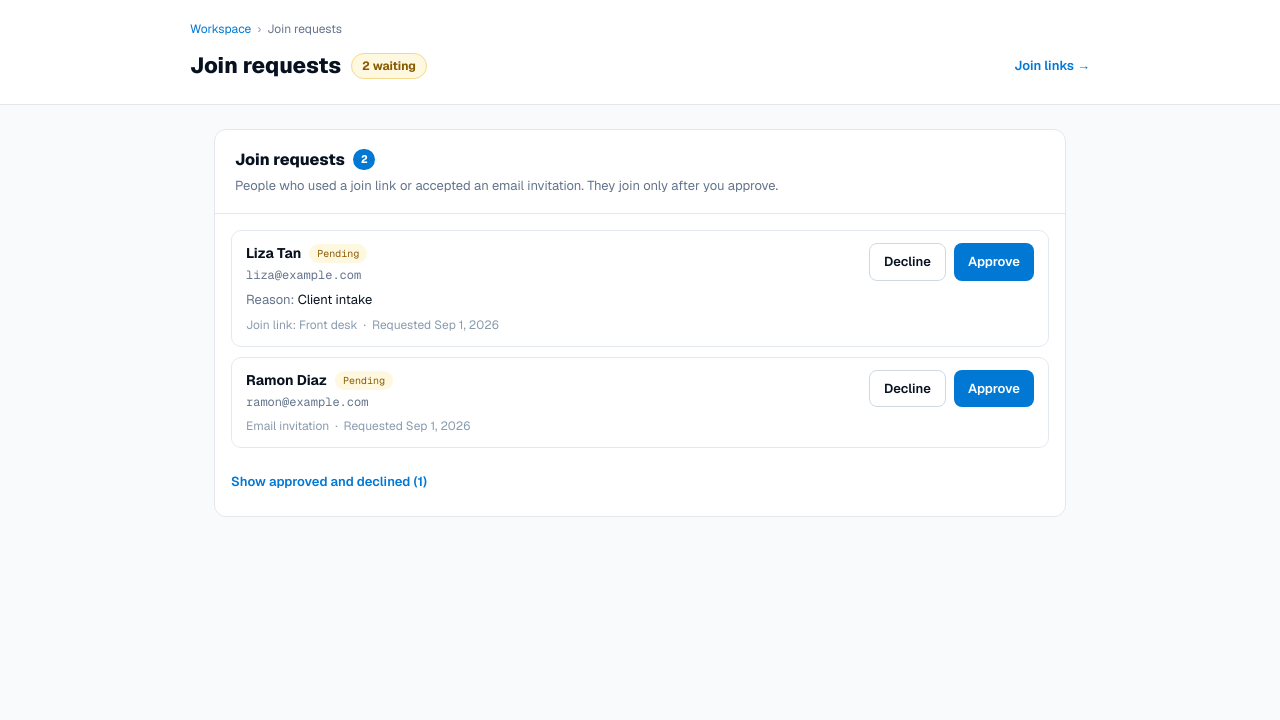
Test case: Members page — join requests and access › approve sends the typed role title and the chosen privileges
Click the button with aria-label "Approve Liza Tan" at (994,262), box [954,243,1034,280]
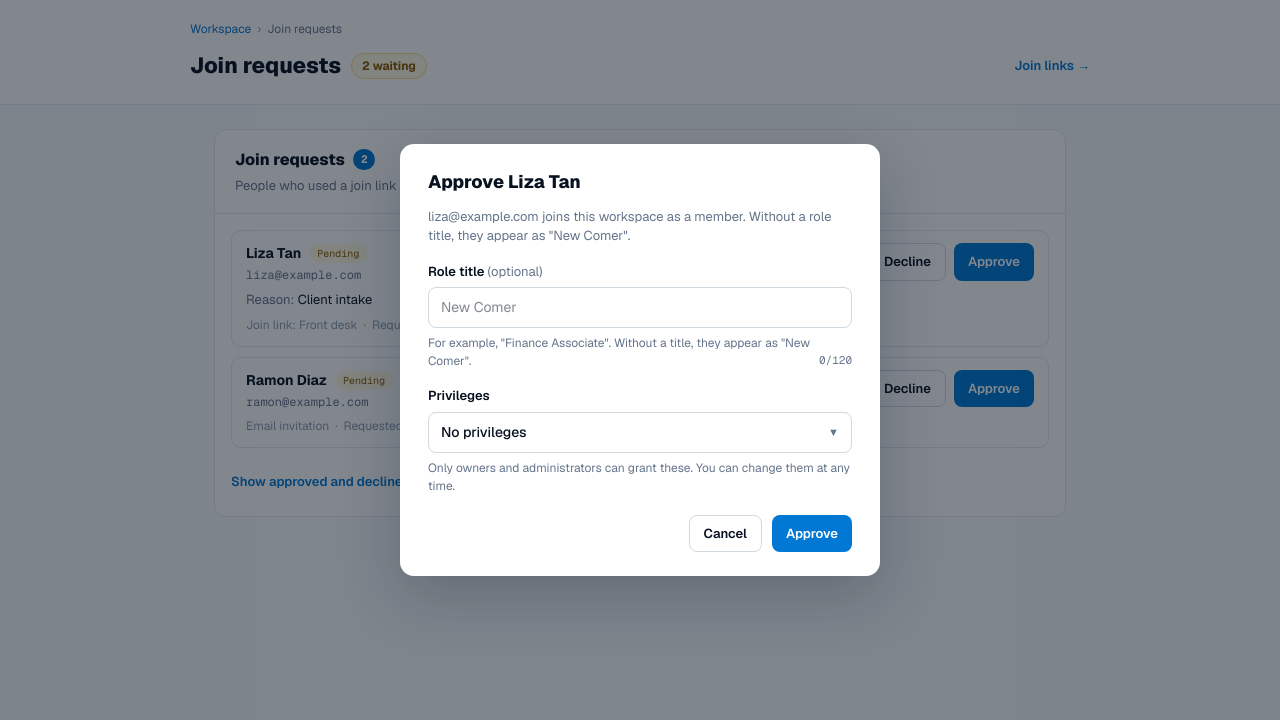
Result: the dialog "Approve Liza Tan" shows "Without a role title, they appear as \"New Comer\"" at [400,144,880,576]
Type "Finance Associate" into the field labelled "Role title (optional)" at (640,308), box [428,287,852,328]
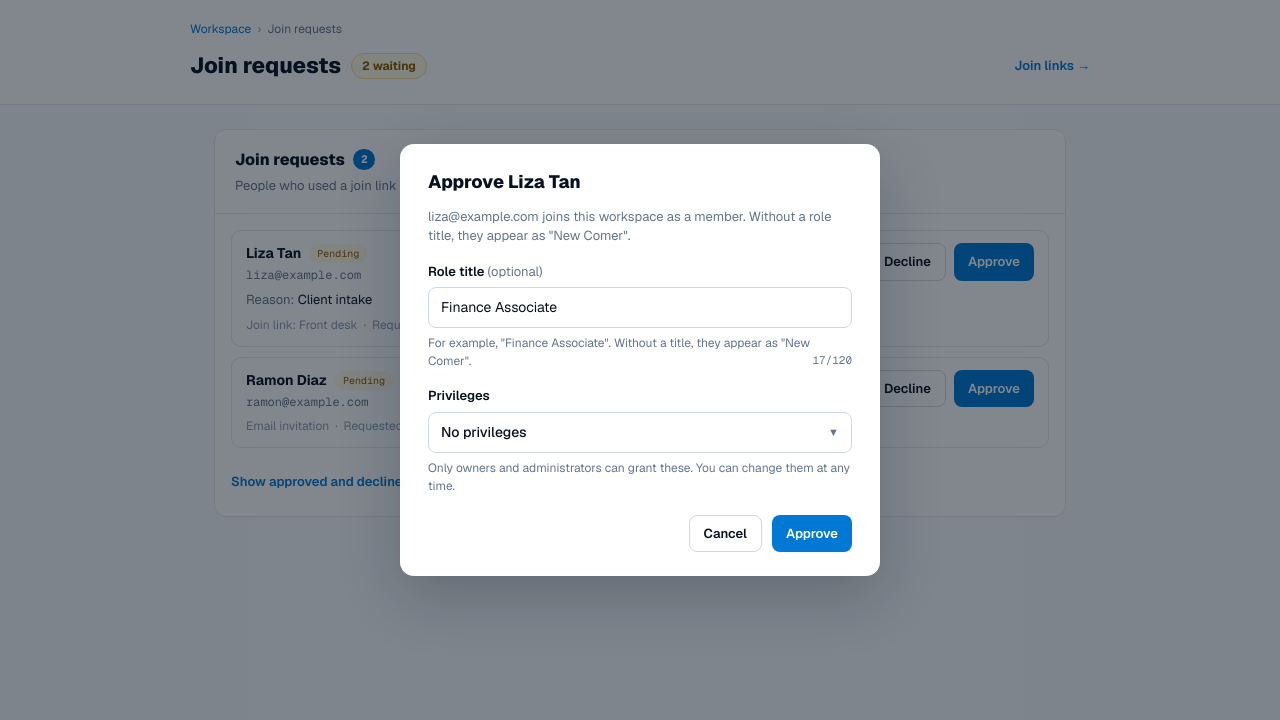
Click the button labelled "No privileges ▼" at (484,432), box [428,412,852,453]
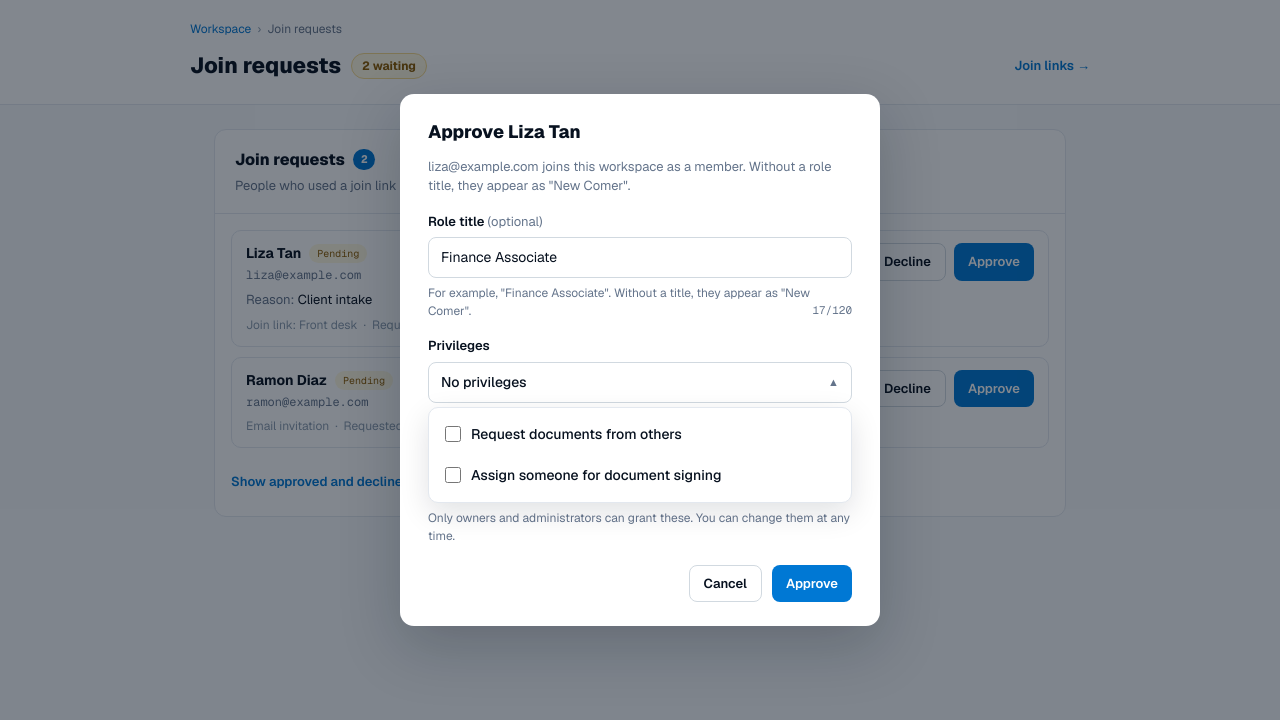
Click the checkbox labelled "Request documents from others" at (453,434), box [445,426,461,442]
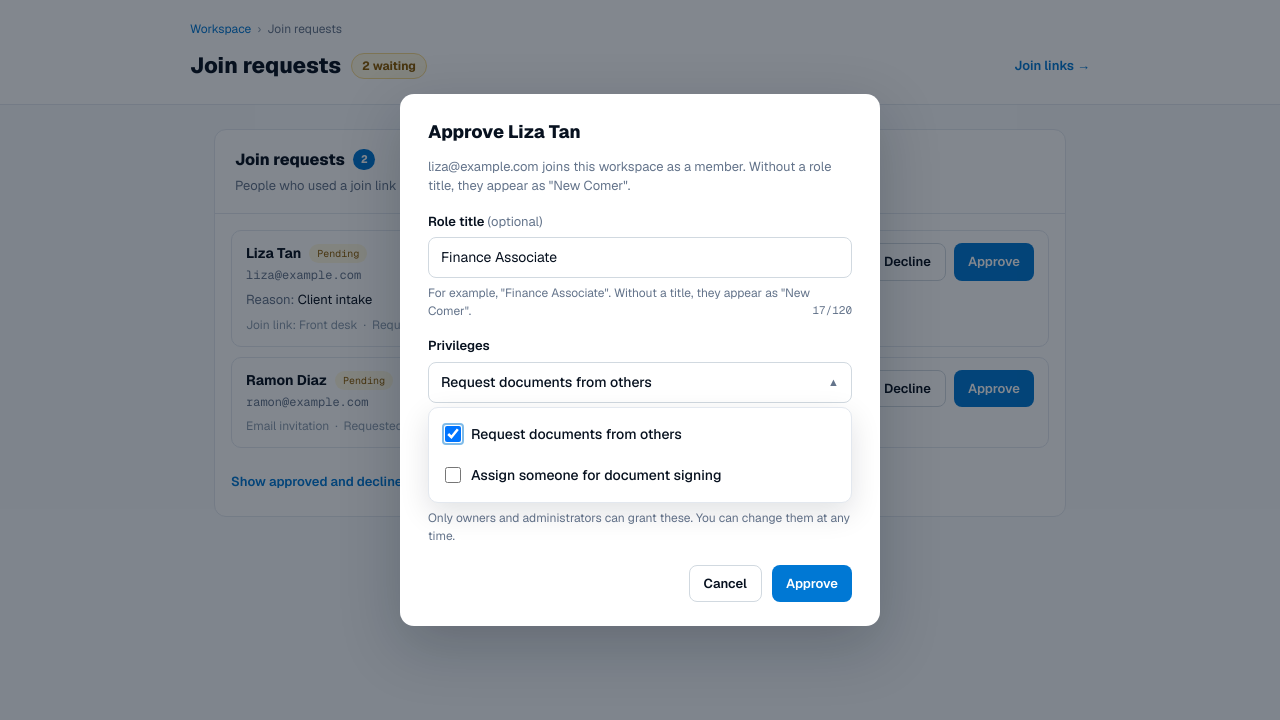
Click the button "Approve" at (812,584), box [772,565,852,602]
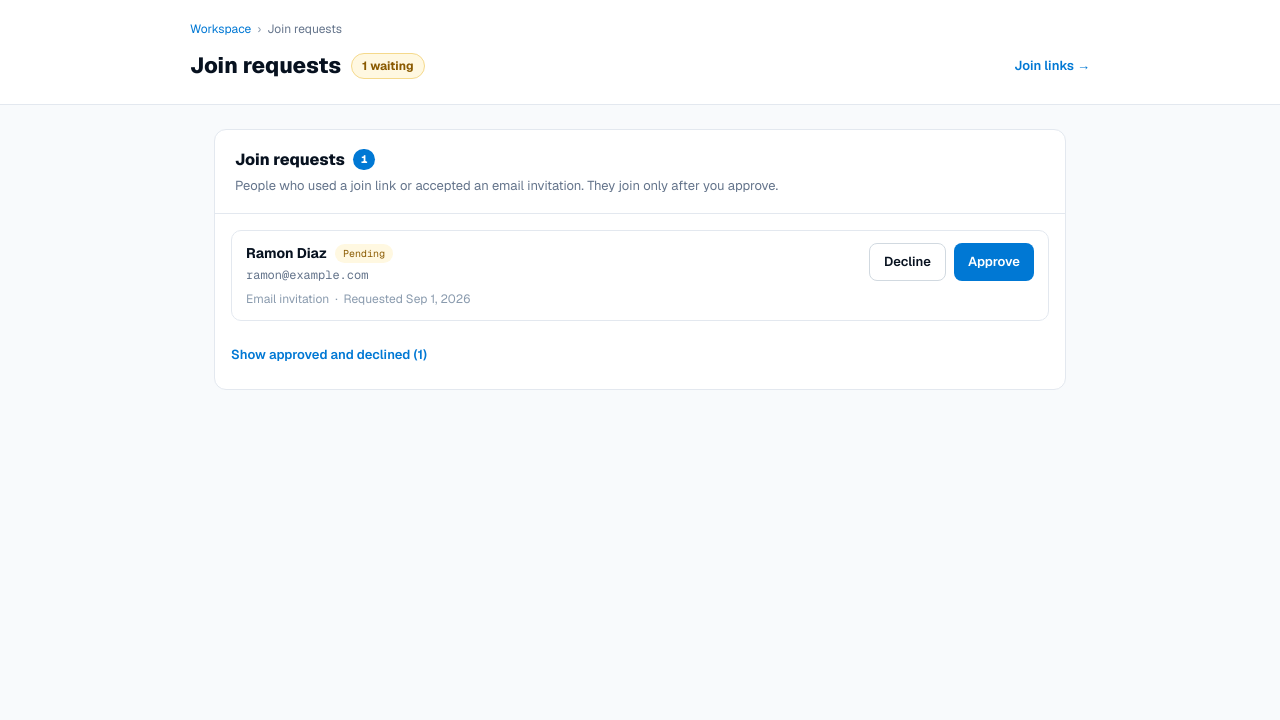
Result: the text with test id "pending-requests-badge" reads "1 waiting" at [351,53,425,79]
